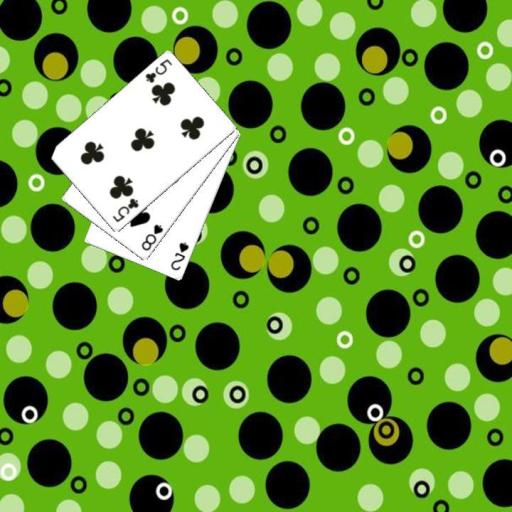2S: (168, 239, 191, 272)
5C: (142, 56, 174, 85), (110, 195, 140, 224)
8S: (138, 221, 165, 253)
